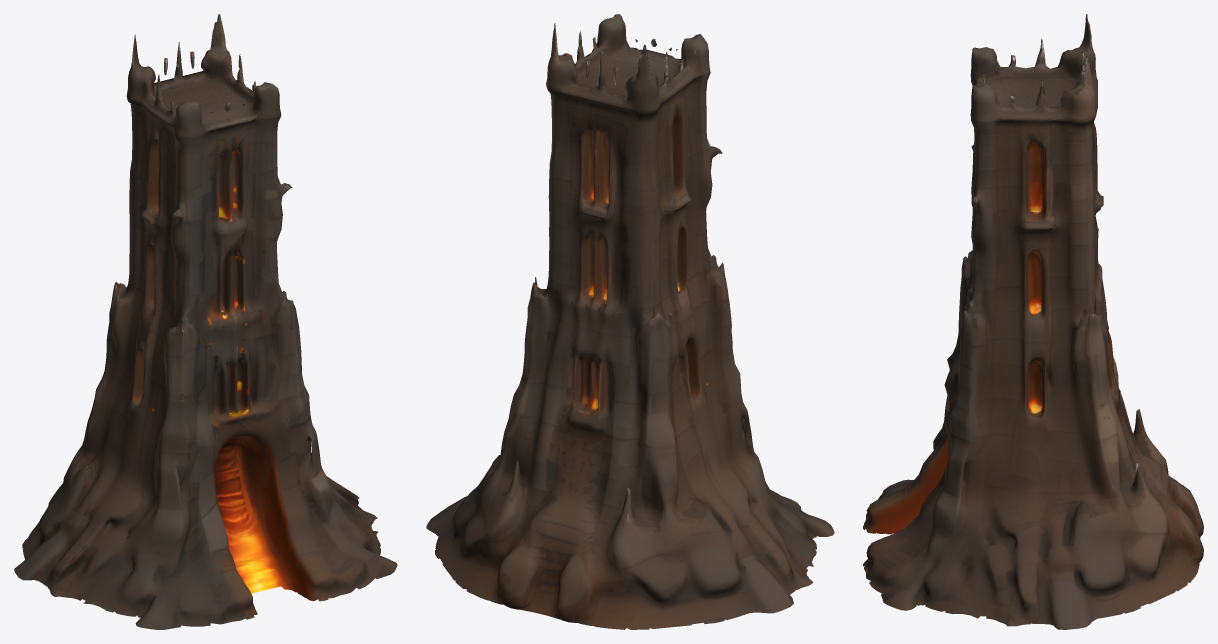
The model's file is TowerInferno.fbx.
3 views of the same model, side by side, from view 1: azimuth 30°, elevation 25°; view 2: azimuth 150°, elevation 25°; view 3: azimuth 270°, elevation 25° (orthographic). The views are drawn at different scales.
Visible parts, largest first — view 1: TowerInferno; view 2: TowerInferno; view 3: TowerInferno.
Part boxes in pixels (bbox=[...]): TowerInferno: bbox=[14, 14, 397, 629]; TowerInferno: bbox=[426, 14, 834, 629]; TowerInferno: bbox=[863, 14, 1203, 629].
Size of the model in its own units: 107 by 153 by 92.13.
